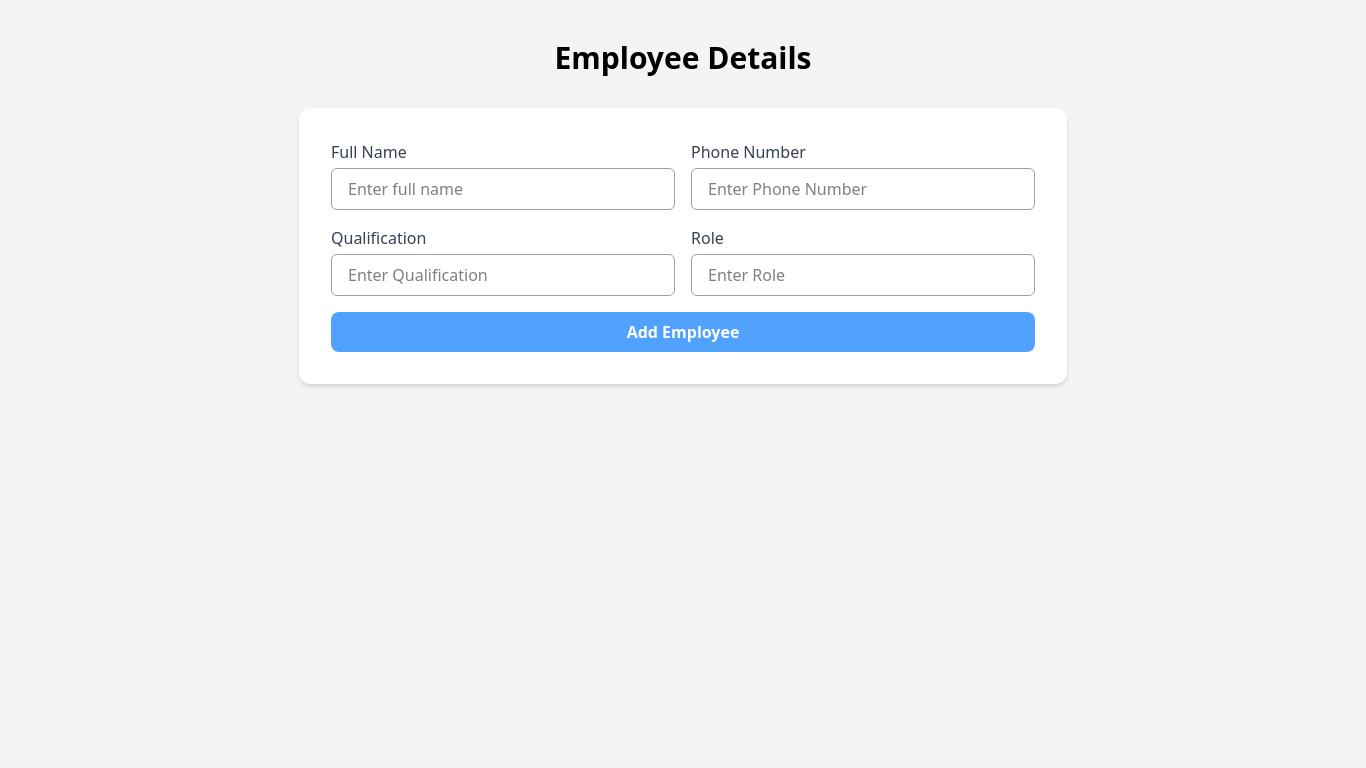
Test: EmployeePage › add a new employee
Step 1. Type "Akalya" into the field labelled "Full Name" → point(503, 189), box [331,168,675,210]
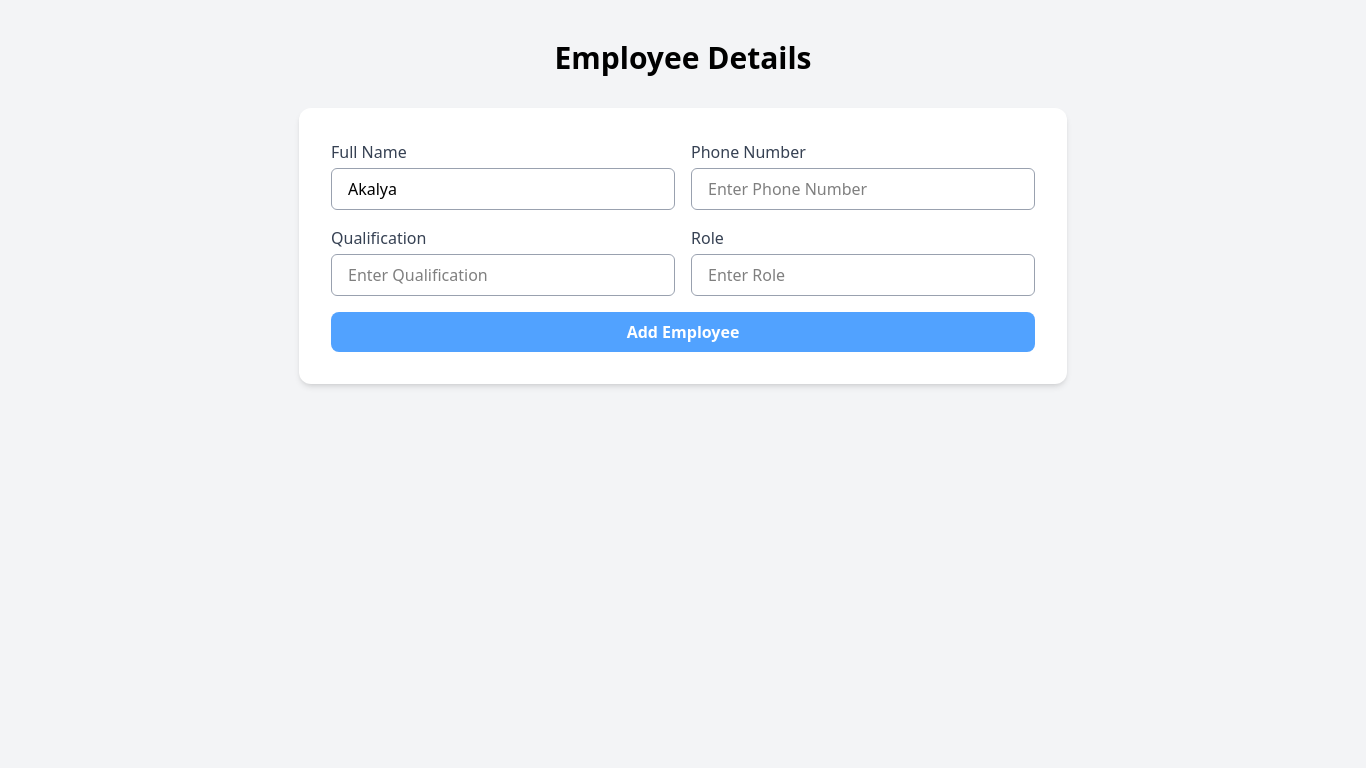
Step 2. Type "9876543210" into the field labelled "Phone Number" → point(863, 189), box [691,168,1035,210]
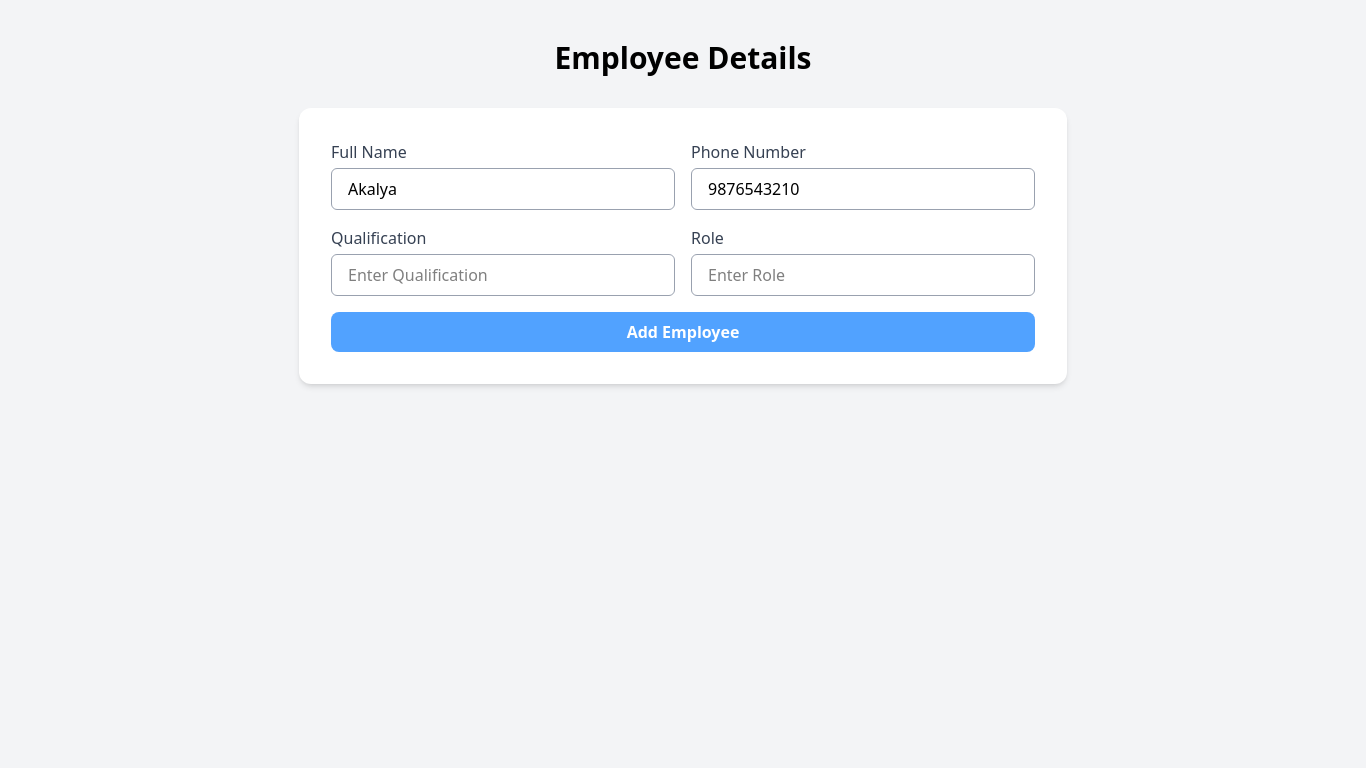
Step 3. Type "B.Tech" into the field labelled "Qualification" → point(503, 275), box [331,254,675,296]
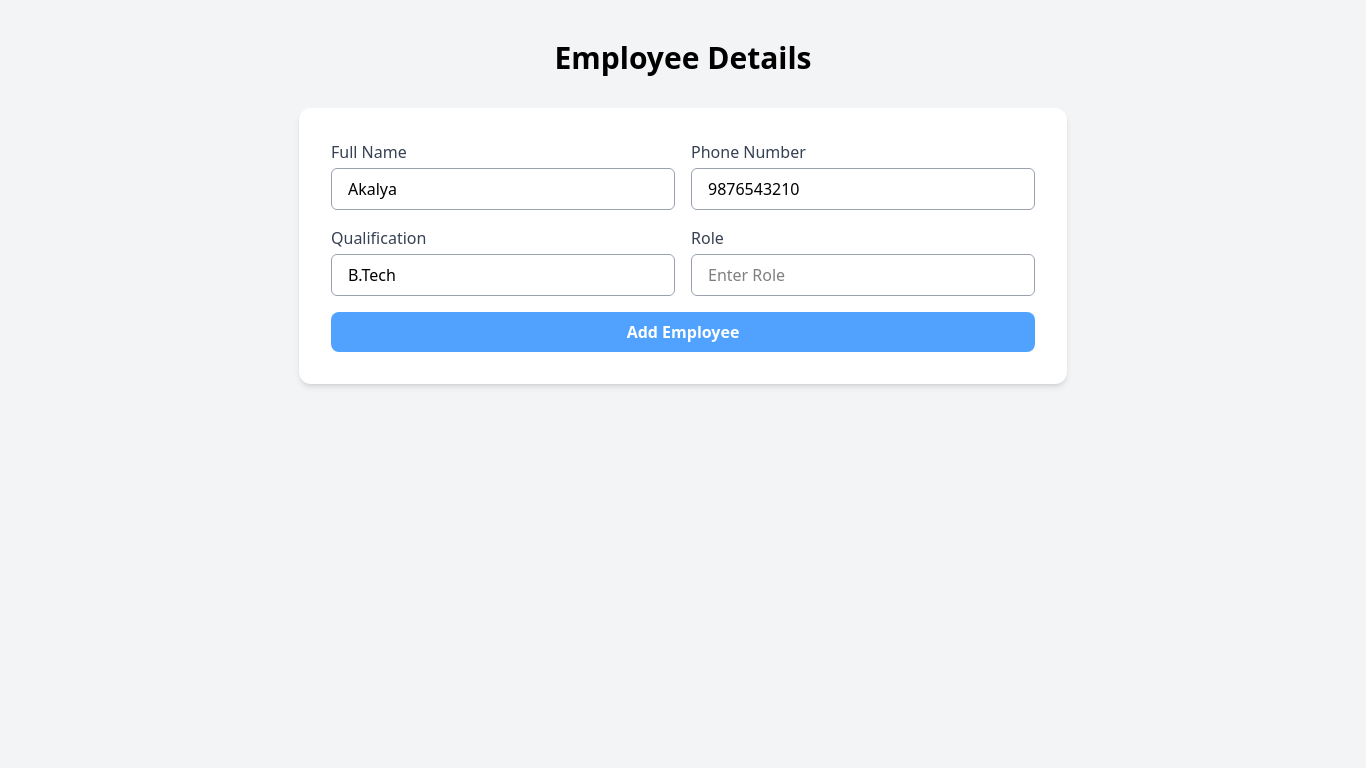
Step 4. Type "Developer" into the field labelled "Role" → point(863, 275), box [691,254,1035,296]
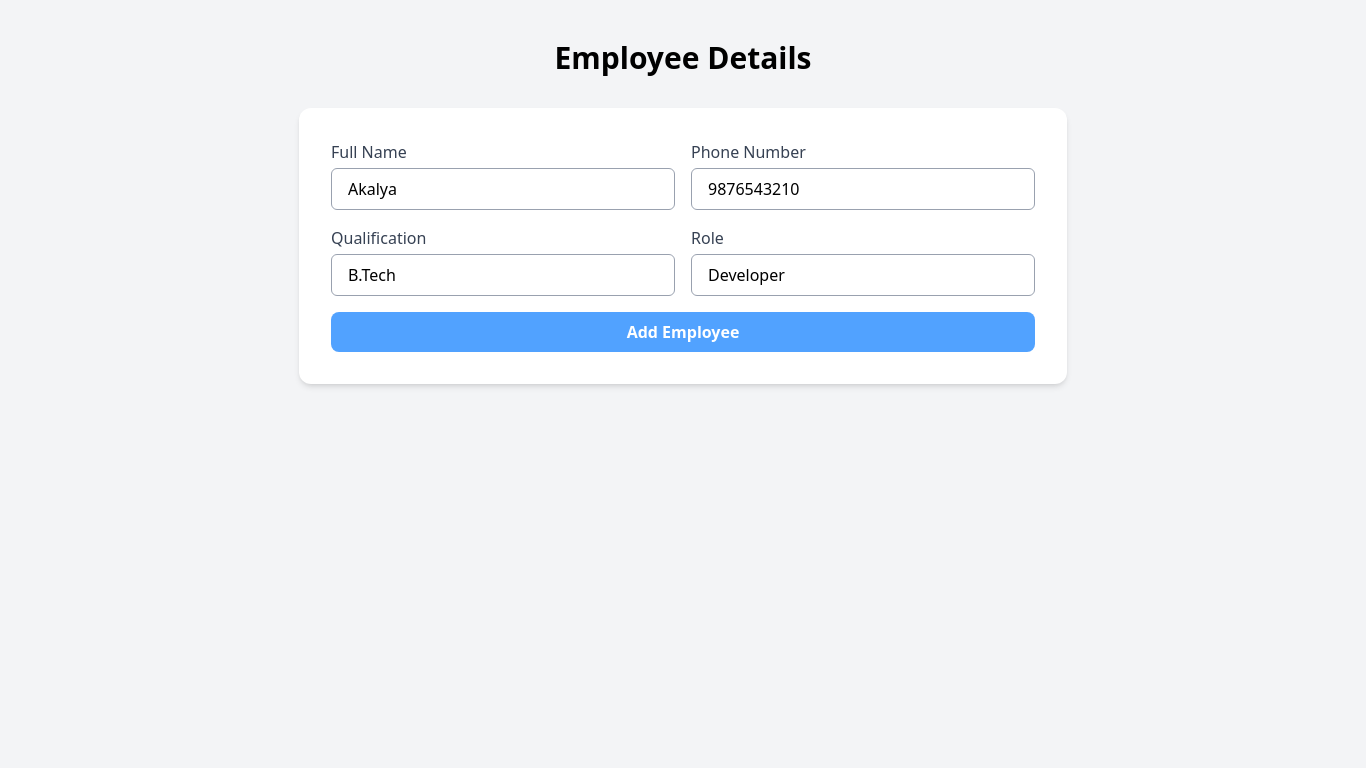
Step 5. Click the button "Add Employee" → point(683, 332), box [331,312,1035,352]
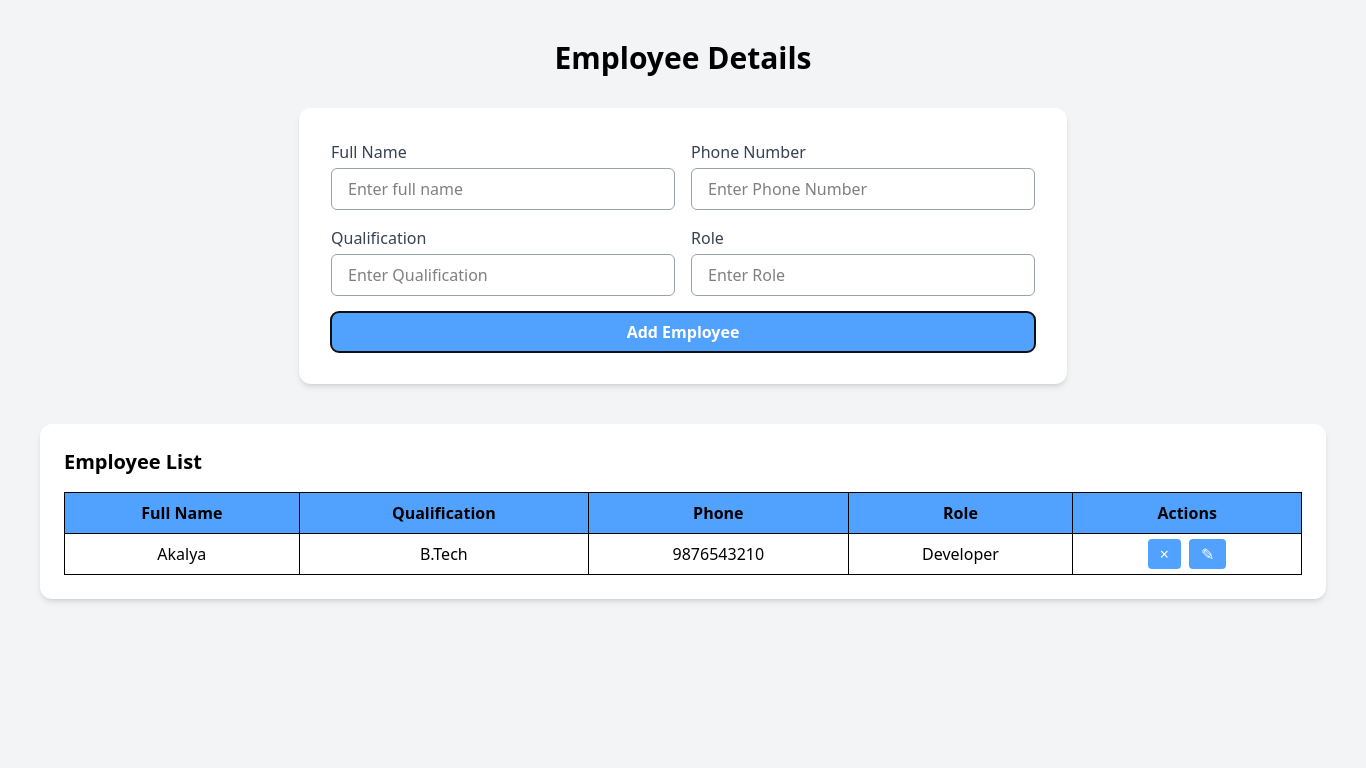
Expected: the text "Akalya" is shown, [64,534,299,574]
Expected: the text "Developer" is shown, [848,534,1073,574]
